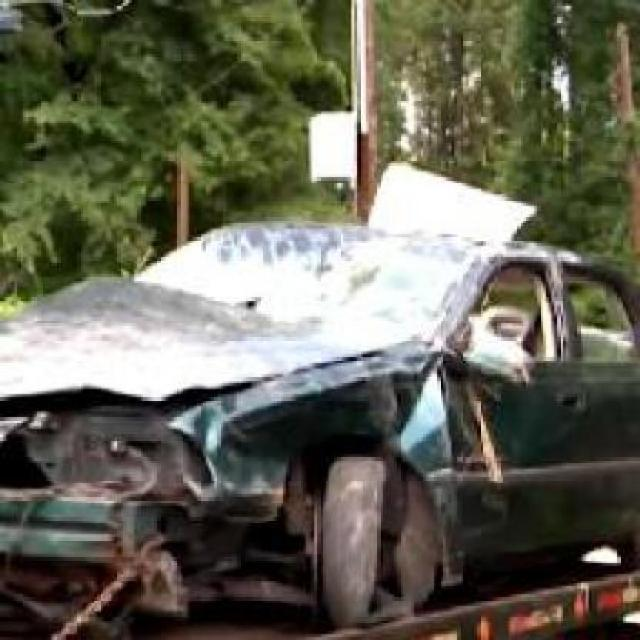damaged-front-bumper: (0, 451, 280, 586)
damaged-hood: (0, 274, 351, 396)
